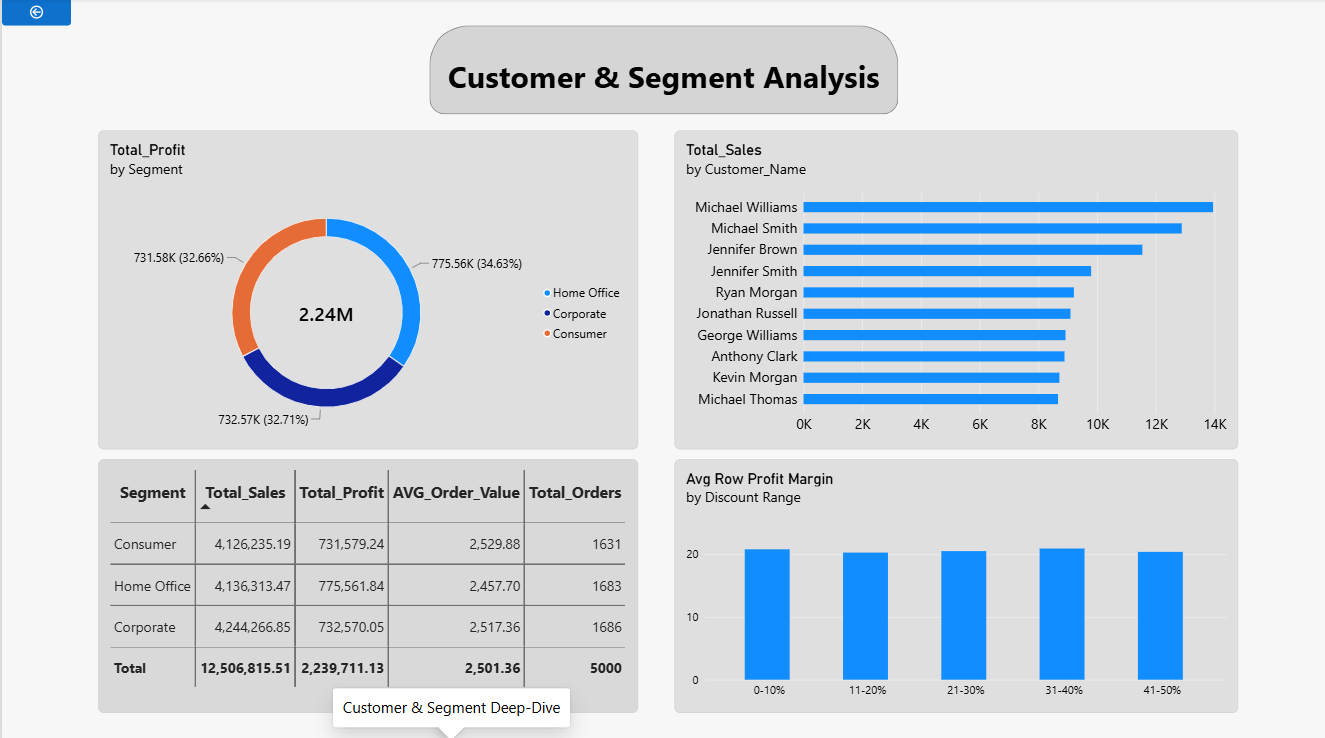

The page's visual inventory and layout, read from the dashboard file:
{"tool":"powerbi","page":{"name":"Customer & Segment Deep-Dive","canvas":[1920,1080],"ordinal":1},"visuals":[{"type":"donutChart","fields":{"Category":["superstore_db sales.Segment"],"Y":["superstore_db sales.Total_Profit"]},"box":[139.3,191.8,781.8,461.5],"z":0},{"type":"clusteredBarChart","fields":{"Category":["superstore_db sales.Customer_Name"],"Y":["superstore_db sales.Total_Sales"]},"box":[973.6,191.8,816.2,461.5],"z":1000},{"type":"tableEx","fields":{"Values":["superstore_db sales.Segment","superstore_db sales.Total_Sales","superstore_db sales.Total_Profit","superstore_db sales.AVG_Order_Value","superstore_db sales.Total_Orders"]},"box":[139.3,667.8,781.8,367.4],"z":2000},{"type":"actionButton","box":[0,0,100,40],"z":3000},{"type":"clusteredColumnChart","fields":{"Category":["superstore_db sales.Discount Range"],"Y":["superstore_db sales.Avg Row Profit Margin"]},"box":[973.6,667.8,816.2,367.4],"z":4000},{"type":"shape","title":"Superstore Sales — Executive Summary","box":[618.9,39.8,678.6,128.5],"z":5000}]}

Visuals, with their boxes in screenshot pixels (x1, y1, x2, y2), scaled from the page's 1920x1080 canvas onto the 1325x738 screenshot:
donutChart - superstore_db sales.Segment x superstore_db sales.Total_Profit: {"x1": 96, "y1": 131, "x2": 636, "y2": 446}
clusteredBarChart - superstore_db sales.Customer_Name x superstore_db sales.Total_Sales: {"x1": 672, "y1": 131, "x2": 1235, "y2": 446}
tableEx - superstore_db sales.Segment x superstore_db sales.Total_Sales: {"x1": 96, "y1": 456, "x2": 636, "y2": 707}
actionButton: {"x1": 0, "y1": 0, "x2": 69, "y2": 27}
clusteredColumnChart - superstore_db sales.Discount Range x superstore_db sales.Avg Row Profit Margin: {"x1": 672, "y1": 456, "x2": 1235, "y2": 707}
"Superstore Sales — Executive Summary" shape: {"x1": 427, "y1": 27, "x2": 895, "y2": 115}
